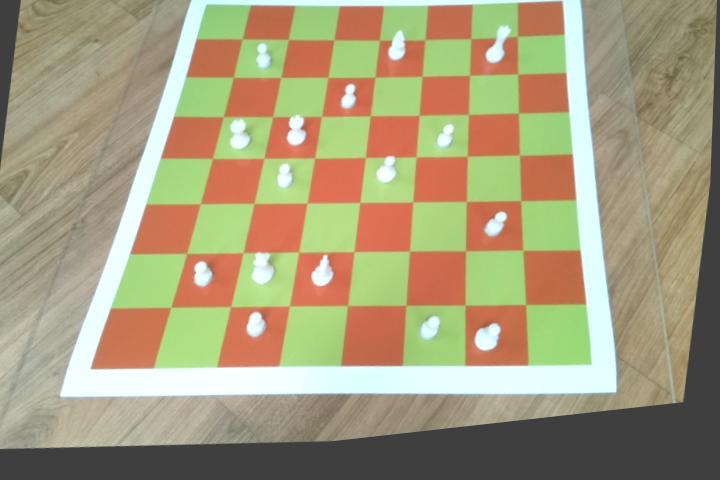chessboard-detect: (90, 8, 595, 377)
